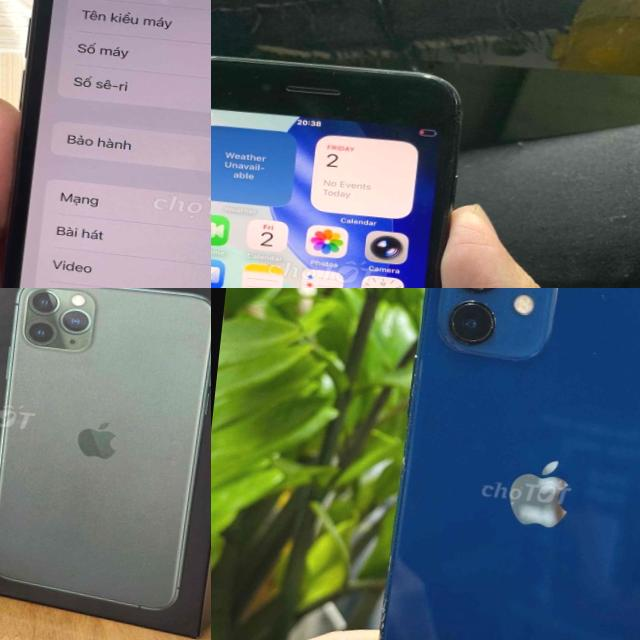gen_12_13: (367, 288, 640, 640)
gen_7_8: (211, 40, 482, 288)
gen_x_xs: (0, 0, 211, 288)
